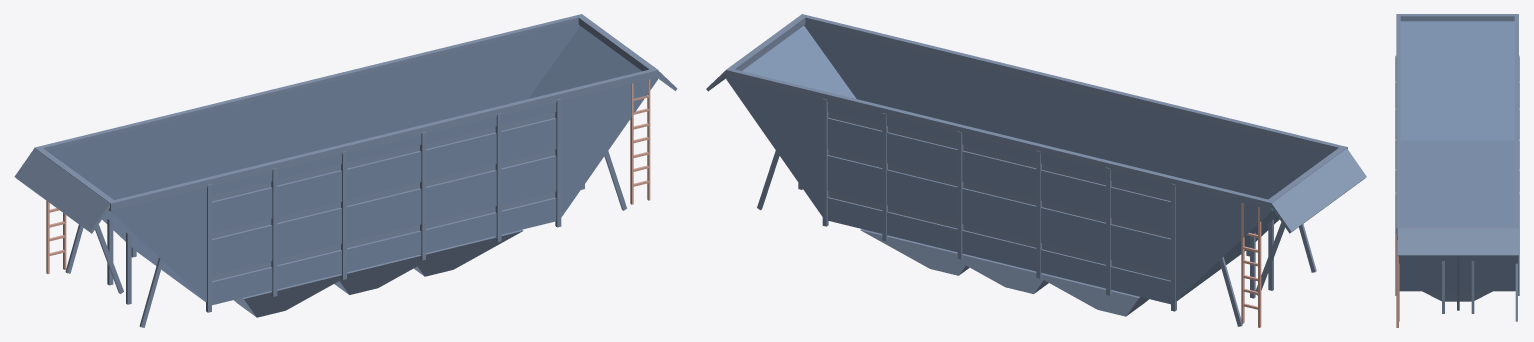
Rendered from props46.fbx.
3 renders of one model, left to right at view 1: azimuth 30°, elevation 25°; view 2: azimuth 150°, elevation 25°; view 3: azimuth 270°, elevation 25°, orthographic. The views are drawn at different scales.
Parts seen in each view (by area): view 1: Cube_6; view 2: Cube_6; view 3: Cube_6.
Boxes of the visible parts, x1,y1,x2,y2 form: Cube_6: (14,14,677,327); Cube_6: (706,14,1366,327); Cube_6: (1395,14,1519,327).
Bounding box in the file's own units: 1443 × 417 × 330.
